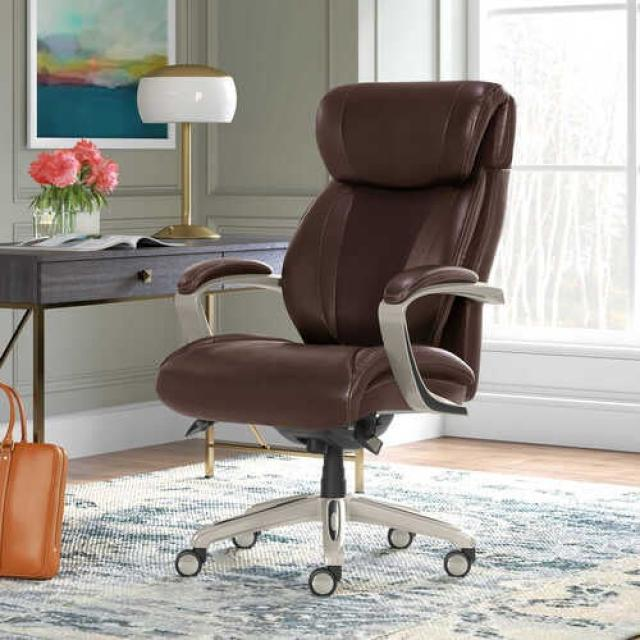chair: (113, 54, 528, 640)
